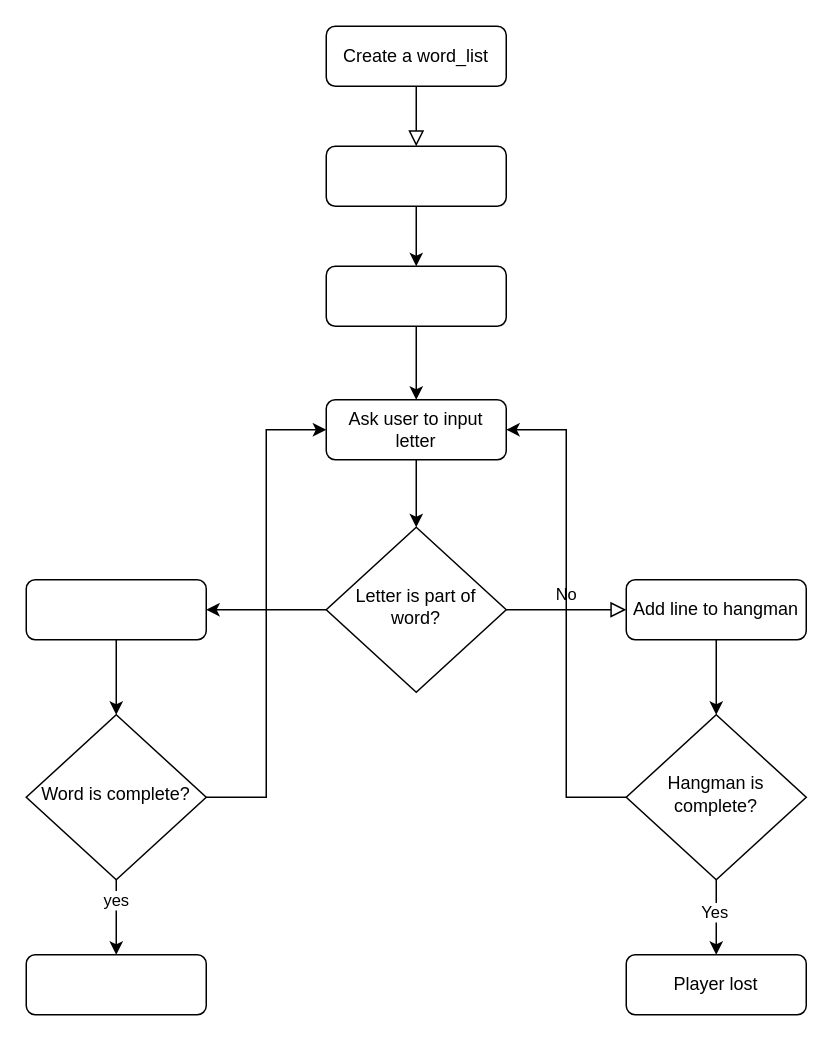
Image size: 833x1041. Some labels were removed from this diagram. Each missing label, with the centre of its shape:
"Generate as many blanks as letters" goes at [415,295].
"Get random word from word list." goes at [415,175].
"Player won" goes at [115,984].
"Replace underscore with letter" goes at [115,609].
